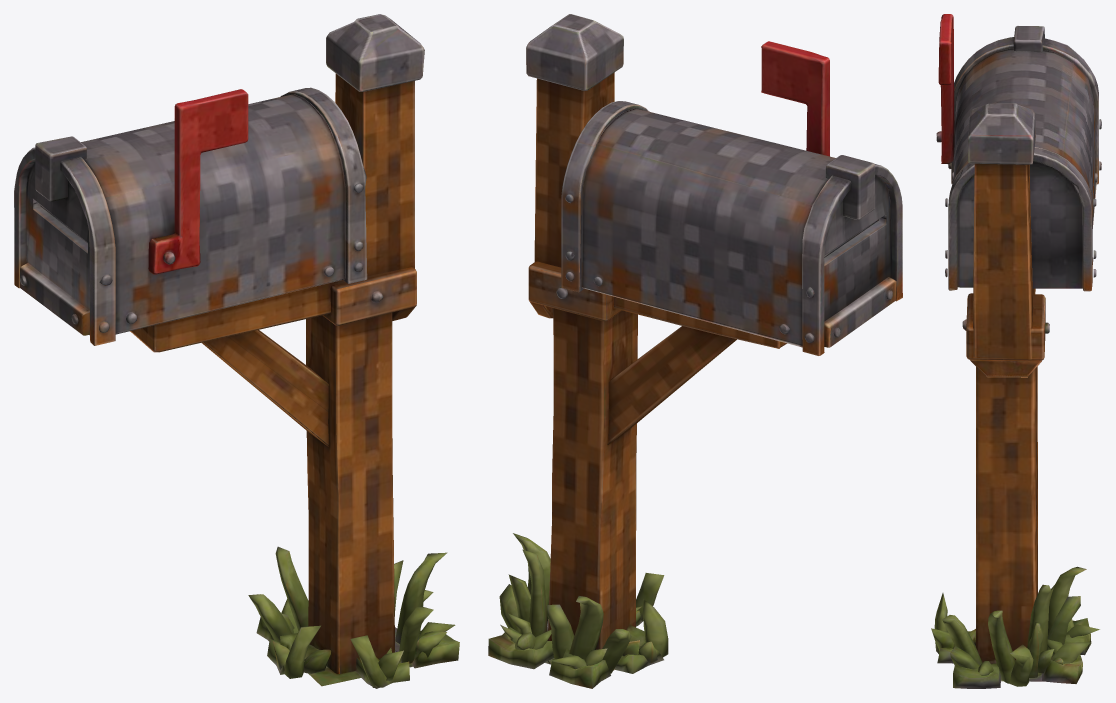
Rendered from HK_mailbox.glb.
The picture shows the model from 3 angles, left to right: view 1: azimuth 30°, elevation 25°; view 2: azimuth 150°, elevation 25°; view 3: azimuth 270°, elevation 25°; orthographic projection. The views are drawn at different scales.
Size of the model in its own units: 0.6089 by 0.9521 by 0.2651.
1 material, 1 textured.
